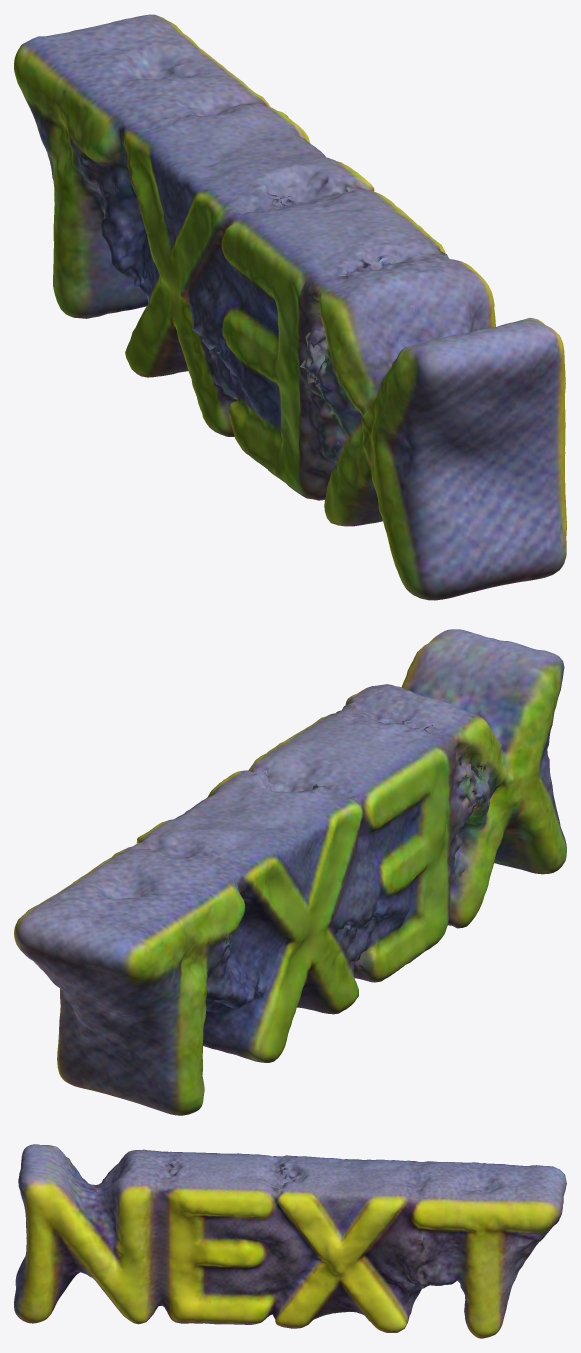
File: next.glb
The picture shows the model from 3 angles, top to bottom: view 1: azimuth 30°, elevation 25°; view 2: azimuth 150°, elevation 25°; view 3: azimuth 270°, elevation 25°; orthographic projection. The views are drawn at different scales.
Parts seen in each view (by area): view 1: Mesh1; view 2: Mesh1; view 3: Mesh1.
Boxes of the visible parts, box(x1,y1,x2,y2) form: Mesh1: box(14, 14, 566, 600); Mesh1: box(14, 629, 566, 1115); Mesh1: box(14, 1144, 566, 1338).
Size of the model in its own units: 0.2987 by 0.3582 by 1.2.
Materials: 1 (1 with a texture image).
